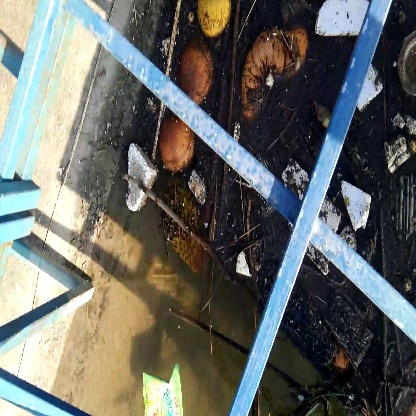branch: (126, 173, 246, 299)
